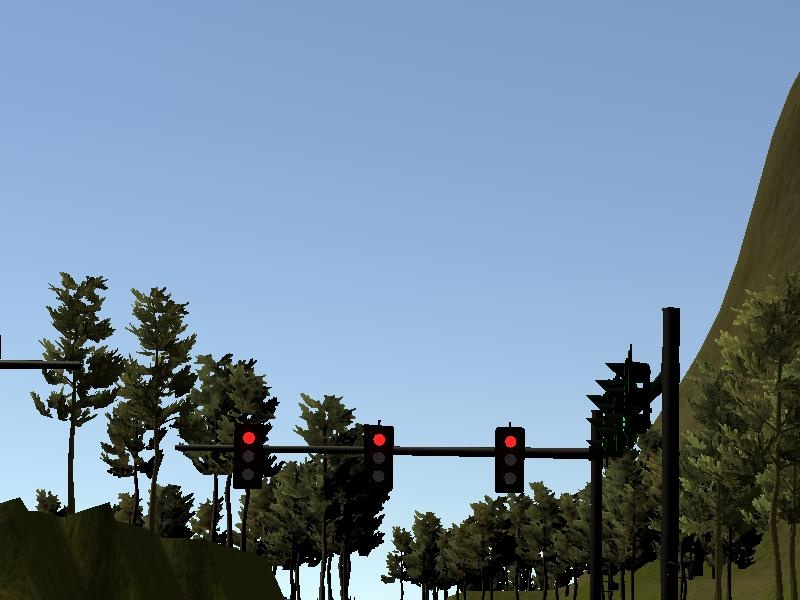red: (492, 423, 527, 497), (362, 422, 396, 493), (232, 419, 262, 490)
